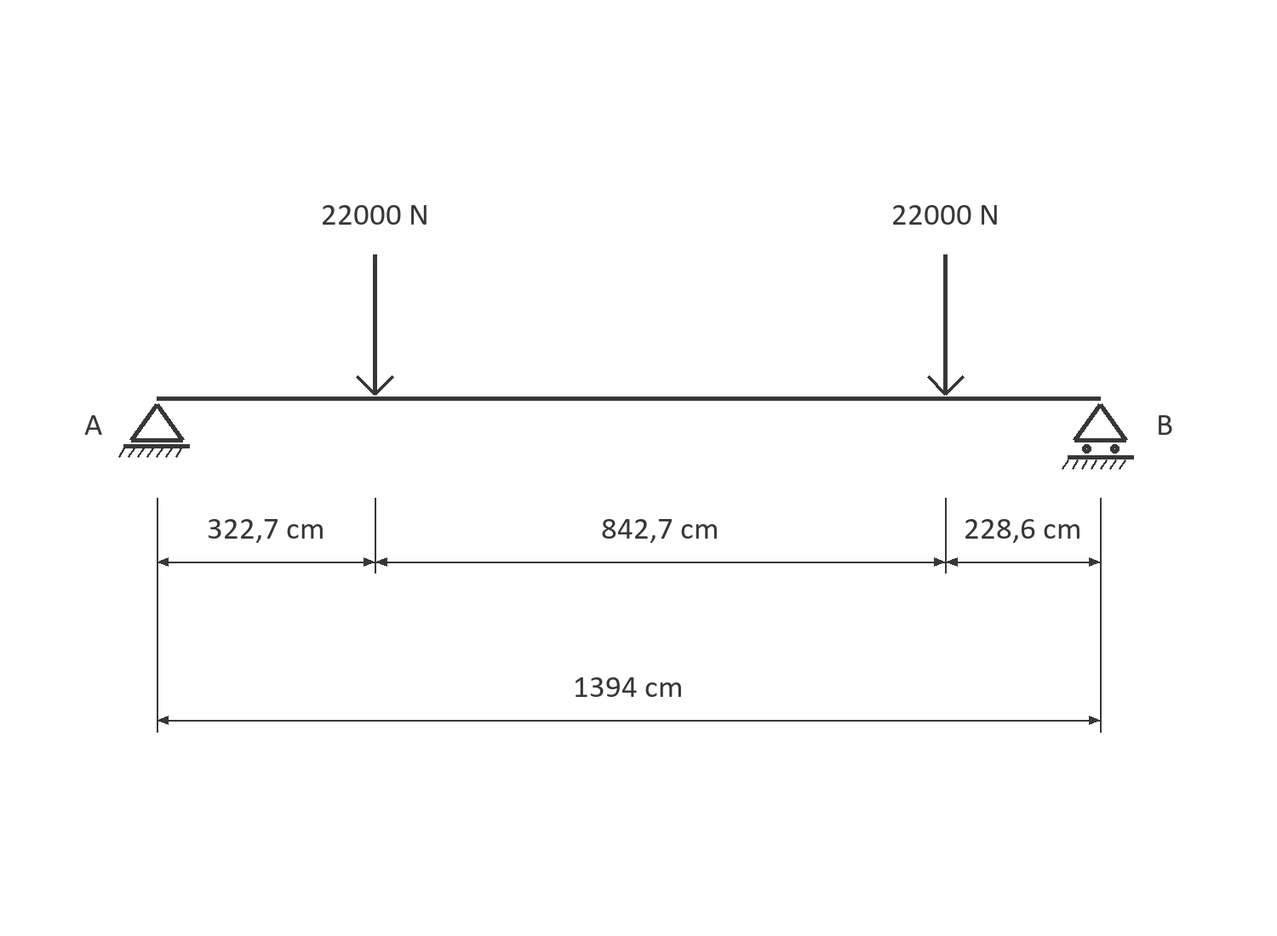pin_support: (118, 403, 190, 458)
point_load: (356, 254, 394, 396), (927, 254, 965, 396)
roller_support: (1062, 403, 1134, 470)
